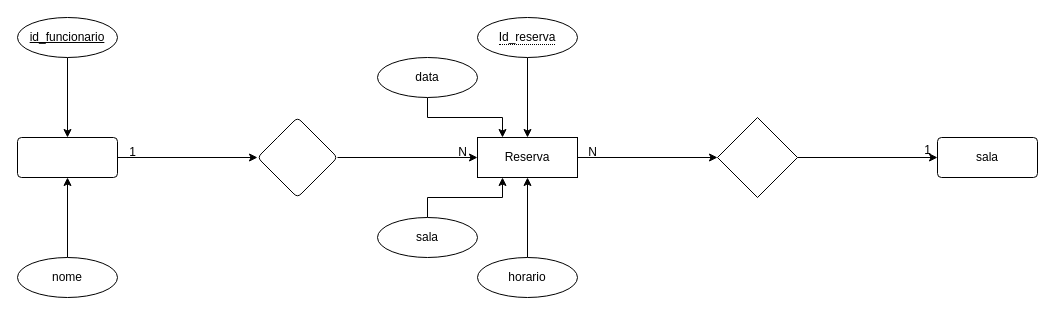
Some shapes in this 1055 by 315 pixel diagram are drawn without their labels. The shapes that lost their labels are listed below. From the top down, each one's centre as x and y in pixels, then its label:
At [67,157]: "funcionario".
At [297,157]: "faz".
At [757,157]: "seleciona".
